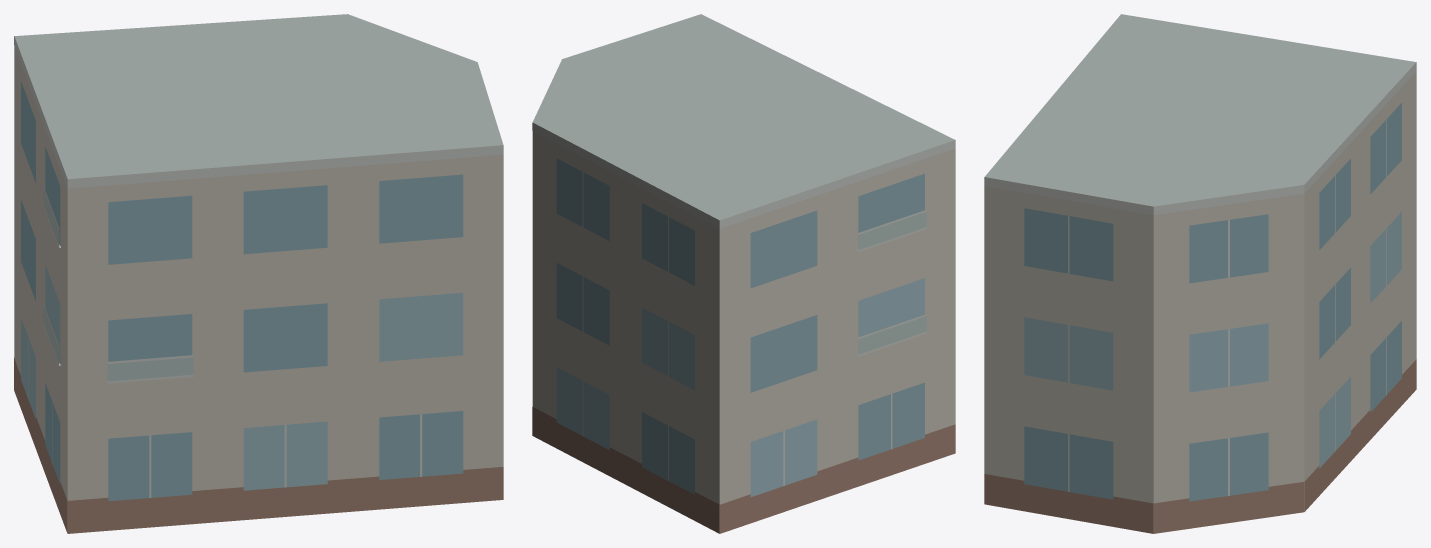
Rendered from survey-upis-32666148.glb.
The picture shows the model from 3 angles, left to right: view 1: azimuth 30°, elevation 25°; view 2: azimuth 150°, elevation 25°; view 3: azimuth 270°, elevation 25°; orthographic projection. The views are drawn at different scales.
Visible parts, largest first — view 1: survey-upis-32666148.tmp; view 2: survey-upis-32666148.tmp; view 3: survey-upis-32666148.tmp.
Boxes of the visible parts, x1,y1,x2,y2 form: survey-upis-32666148.tmp: [14, 14, 503, 533]; survey-upis-32666148.tmp: [532, 14, 955, 533]; survey-upis-32666148.tmp: [984, 14, 1416, 533].
Bounding box in the file's own units: 11.56 × 9.15 × 10.96.
